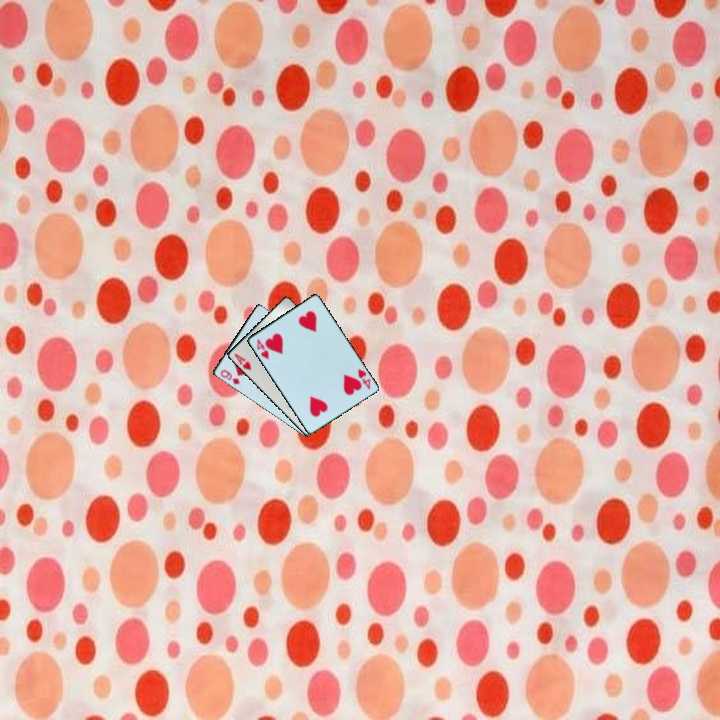4h: (354, 365, 373, 392), (253, 335, 271, 362)
9d: (217, 366, 242, 387)
Ah: (230, 350, 254, 373)
